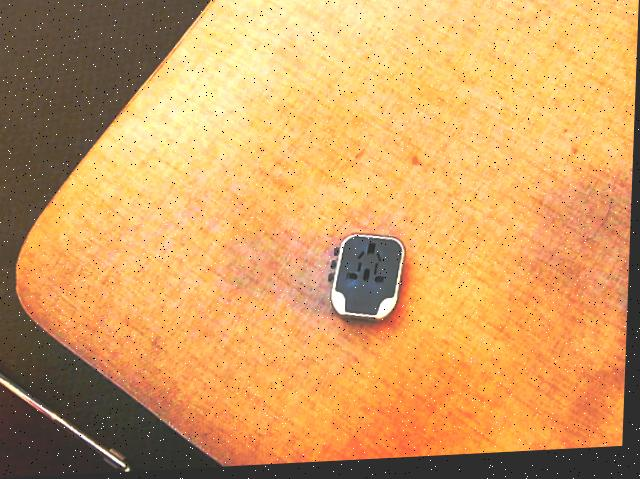adapter: (328, 234, 407, 328)
